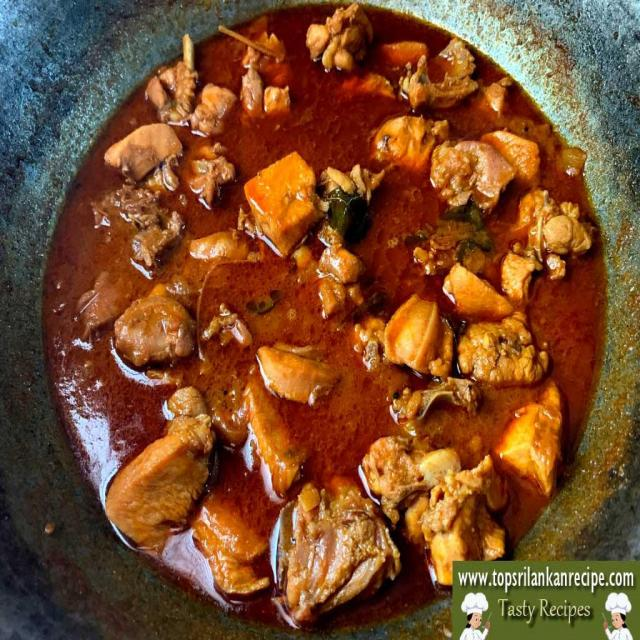chicken: (15, 31, 591, 548)
